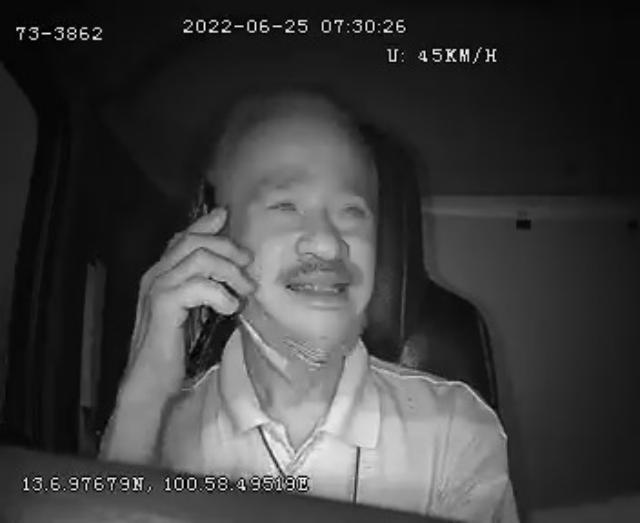PhoneUse: (173, 181, 237, 361)
SafeDriving: (328, 188, 378, 230), (258, 184, 307, 222)
